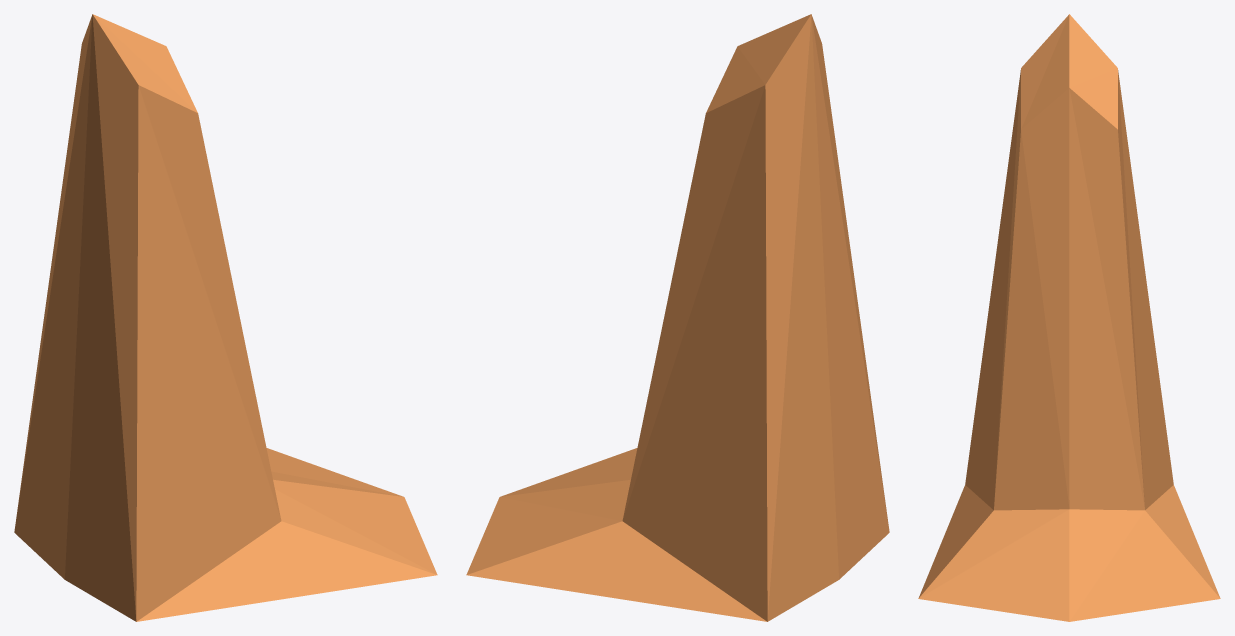
Rendered from Rock_Medium_Canyon_Eroded_01.FBX.
3 views of the same model, side by side, from view 1: azimuth 30°, elevation 25°; view 2: azimuth 150°, elevation 25°; view 3: azimuth 270°, elevation 25° (orthographic). The views are drawn at different scales.
Parts seen in each view (by area): view 1: Rock_Medium_Canyon_Eroded_01; view 2: Rock_Medium_Canyon_Eroded_01; view 3: Rock_Medium_Canyon_Eroded_01.
Part boxes in pixels (x1=…): Rock_Medium_Canyon_Eroded_01: x1=14, y1=14, x2=437, y2=621; Rock_Medium_Canyon_Eroded_01: x1=466, y1=14, x2=889, y2=621; Rock_Medium_Canyon_Eroded_01: x1=918, y1=14, x2=1220, y2=621.
Size of the model in its own units: 3117 by 4903 by 2812.
